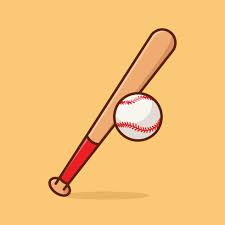baseball bat: (47, 28, 177, 198)
